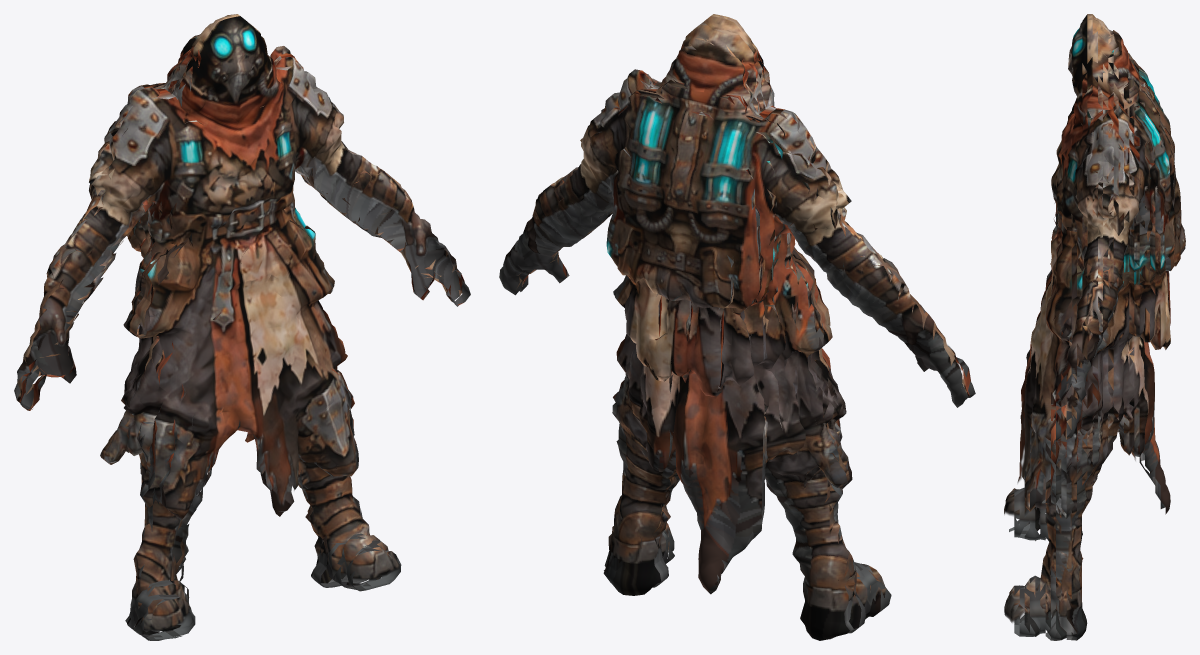
File: ashland-survivor.glb
The picture shows the model from 3 angles, left to right: view 1: azimuth 30°, elevation 25°; view 2: azimuth 150°, elevation 25°; view 3: azimuth 270°, elevation 25°; orthographic projection. The views are drawn at different scales.
Parts seen in each view (by area): view 1: geometry_0; view 2: geometry_0; view 3: geometry_0.
Part boxes in pixels (x1,y1,x2,y2): geometry_0: (14, 14, 470, 640); geometry_0: (499, 14, 975, 640); geometry_0: (1004, 14, 1185, 640).
Bounding box in the file's own units: 0.8279 × 1.03 × 0.2959.
4 materials, 4 textured.
